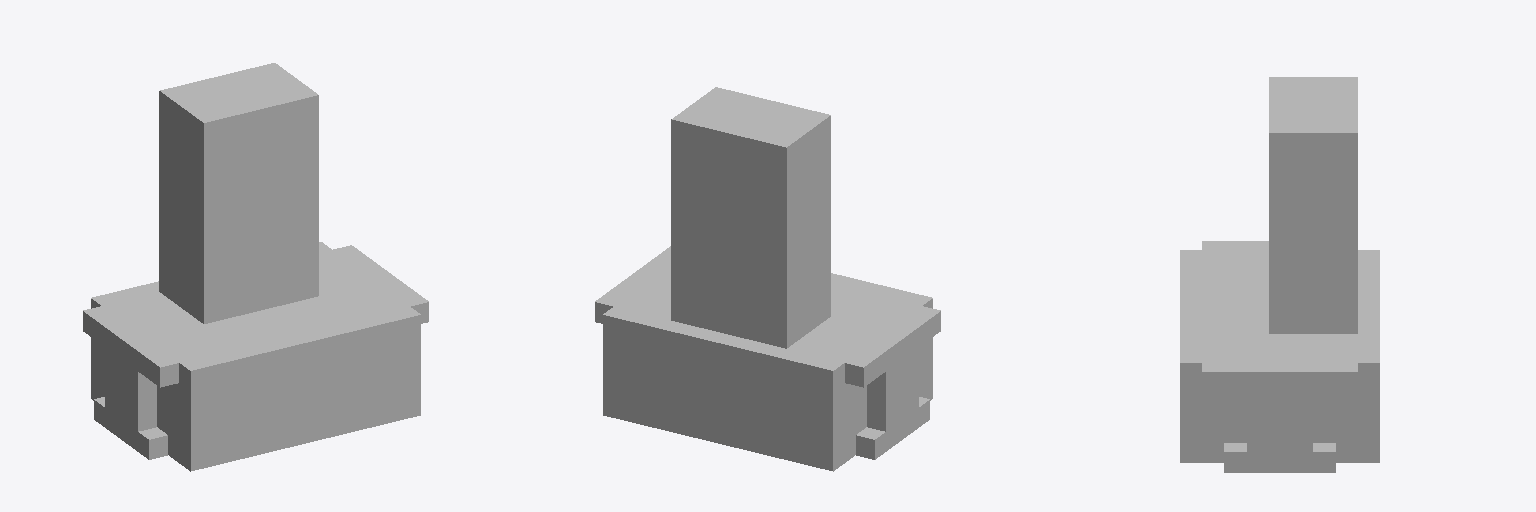
The model's file is Droid_lowerBody.obj.
The picture shows the model from 3 angles: view 1: azimuth 30°, elevation 25°; view 2: azimuth 150°, elevation 25°; view 3: azimuth 270°, elevation 25°; orthographic projection.
Parts seen in each view (by area): view 1: object 1; view 2: object 1; view 3: object 1.
Boxes of the visible parts, box(x1,y1,x2,y2) form: object 1: box(83, 63, 428, 471); object 1: box(595, 87, 940, 471); object 1: box(1180, 77, 1379, 472).
Size of the model in its own units: 1.4 by 1.5 by 0.9.